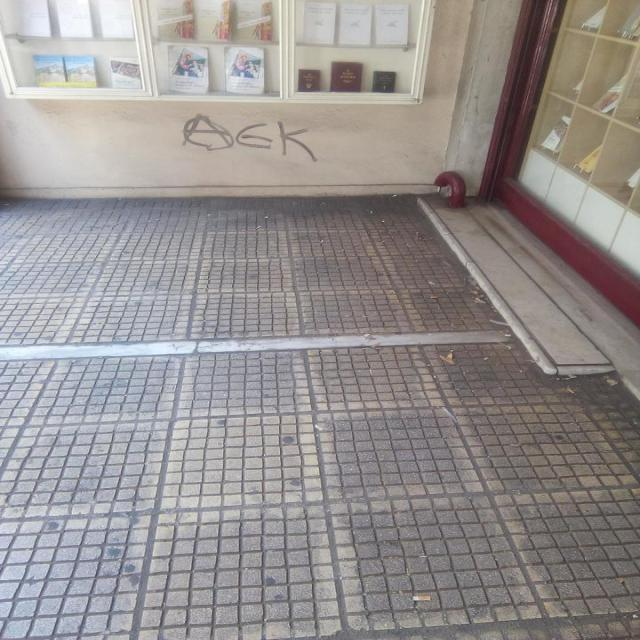nonspitting: (183, 114, 316, 160)
